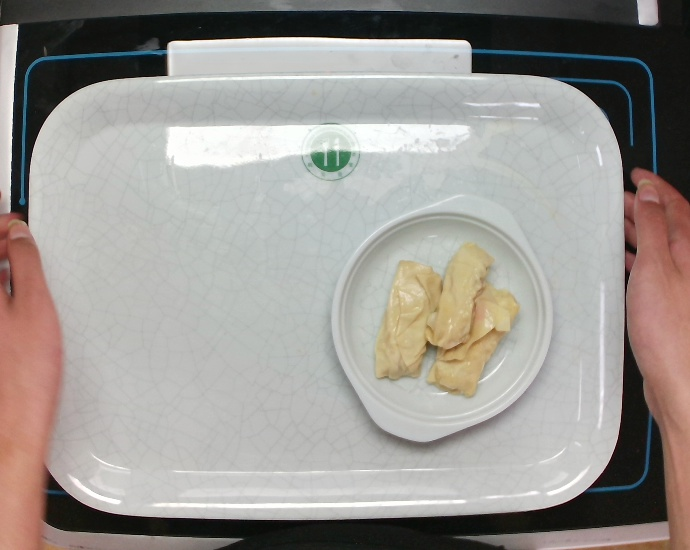JYsf-Shuang_Er_Pan: (327, 189, 556, 447)
